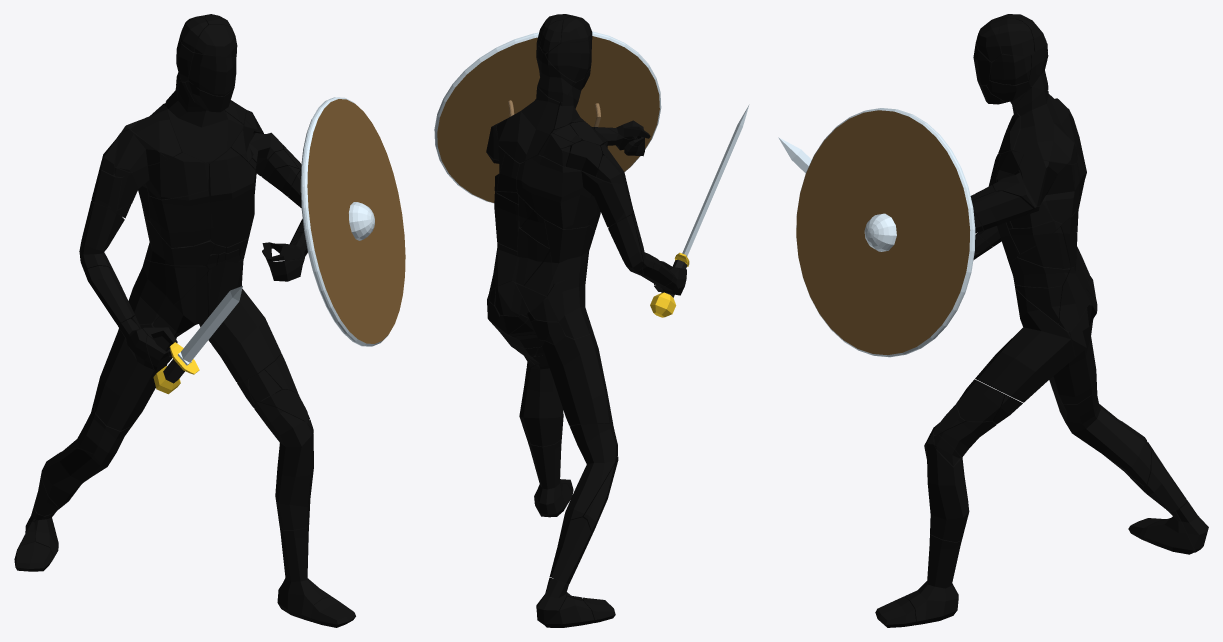
Rendered from fracturedMan.fbx.
3 renders of one model, left to right at view 1: azimuth 30°, elevation 25°; view 2: azimuth 150°, elevation 25°; view 3: azimuth 270°, elevation 25°, orthographic. The views are drawn at different scales.
Parts seen in each view (by area): view 1: Shield, Body.001_cell.021, Body.001_cell.010, Body.001_cell.026, Body.001_cell.002, Body.001_cell.023, Body.001_cell.017, Body.001_cell.034, Body.001_cell.042, Body.001_cell.003, Sword, Body.001_cell.025 (+23 smaller); view 2: Shield, Body.001_cell.007, Body.001_cell.026, Body.001_cell.006, Body.001_cell.010, Body.001_cell.024, Body.001_cell.003, Body.001_cell.034, Body.001_cell.027, Sword, Body.001_cell.020, Body.001_cell.043 (+26 smaller); view 3: Shield, Body.001_cell.021, Body.001_cell.006, Body.001_cell.024, Body.001_cell.010, Body.001_cell.003, Body.001_cell.046_cell.003, Body.001_cell.026, Body.001_cell.046_cell.007, Body.001_cell.050_cell.007, Body.001_cell.030_cell.006, Body.001_cell.020 (+16 smaller).
Part boxes in pixels (x1,y1,x2,y2): Shield: (300,97,405,346); Body.001_cell.021: (200,261,281,381); Body.001_cell.010: (254,401,313,529); Body.001_cell.026: (94,321,210,430); Body.001_cell.002: (208,147,255,246); Body.001_cell.023: (166,80,243,163); Body.001_cell.017: (118,150,208,208); Body.001_cell.034: (128,258,208,324); Body.001_cell.042: (149,189,210,247); Body.001_cell.003: (277,523,331,621); Sword: (153,286,242,394); Body.001_cell.025: (40,448,101,507); Shield: (434,31,661,203); Body.001_cell.007: (516,155,633,228); Body.001_cell.026: (508,318,613,425); Body.001_cell.006: (561,423,617,530); Body.001_cell.010: (519,358,563,446); Body.001_cell.024: (496,86,559,163); Body.001_cell.003: (527,439,572,517); Body.001_cell.034: (547,249,589,338); Body.001_cell.027: (544,220,595,283); Sword: (650,104,749,317); Body.001_cell.020: (549,517,591,584); Body.001_cell.043: (545,39,591,81); Shield: (796,108,975,357); Body.001_cell.021: (975,283,1074,402); Body.001_cell.006: (1054,381,1150,485); Body.001_cell.024: (1014,86,1077,164); Body.001_cell.010: (924,422,969,542); Body.001_cell.003: (904,534,961,625); Body.001_cell.046_cell.003: (1019,154,1074,223); Body.001_cell.026: (1049,319,1096,404); Body.001_cell.046_cell.007: (972,191,1033,230); Body.001_cell.050_cell.007: (956,380,1004,421); Body.001_cell.030_cell.006: (1058,261,1090,331); Body.001_cell.020: (1144,441,1186,510).
Bounding box in the file's own units: 94.1 × 180 × 123.
